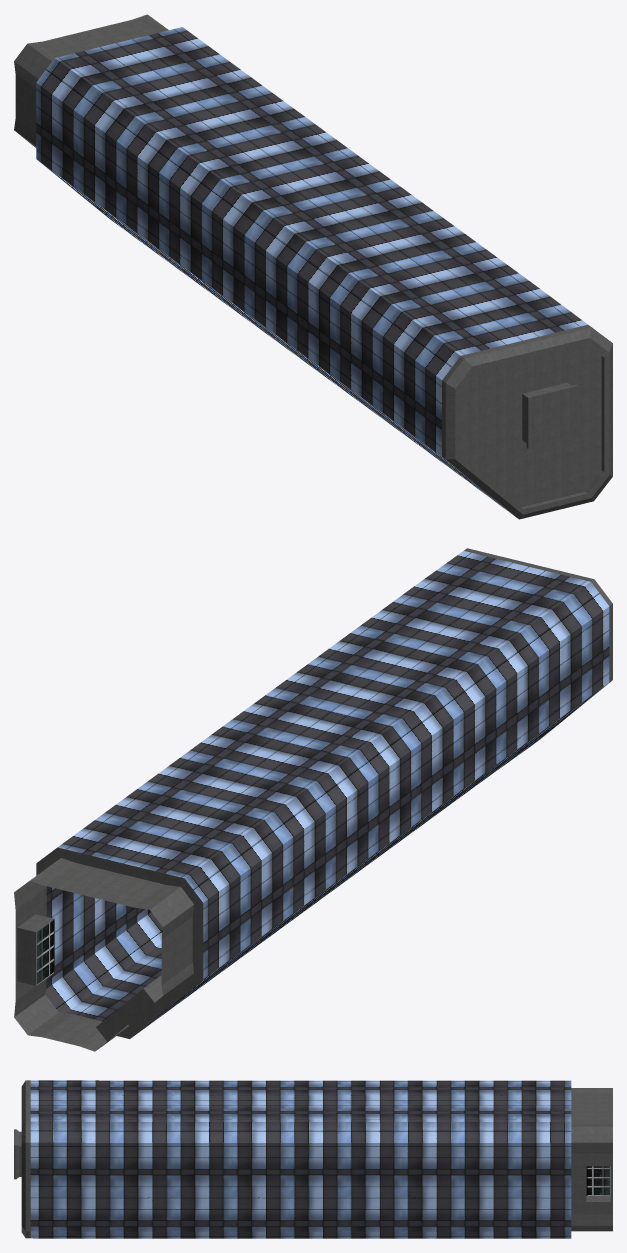
Rendered from skyscraper_windowE_03.obj.
3 views of the same model, one above another, from view 1: azimuth 30°, elevation 25°; view 2: azimuth 150°, elevation 25°; view 3: azimuth 270°, elevation 25° (orthographic). The views are drawn at different scales.
Parts seen in each view (by area): view 1: Object22; view 2: Object22; view 3: Object22.
Part boxes in pixels (x1,y1,x2,y2): Object22: [14, 14, 612, 519]; Object22: [14, 548, 612, 1051]; Object22: [14, 1080, 612, 1238].
Bounding box in the file's own units: 36.33 × 36.05 × 169.
Materials: 3 (3 with a texture image).
